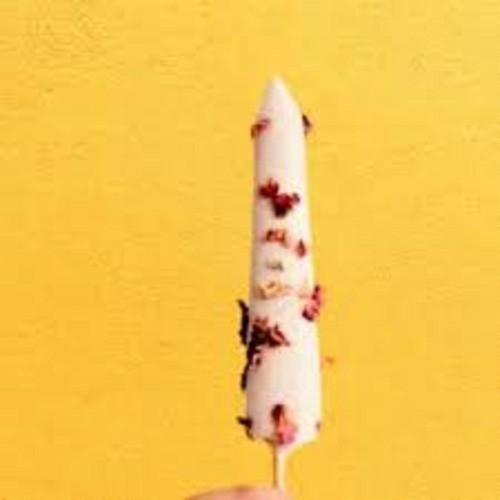Kulfi: (244, 73, 326, 449)
